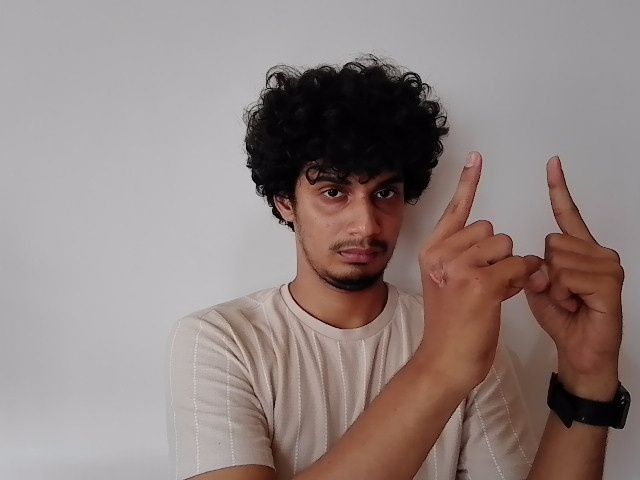play: (415, 150, 623, 361)
